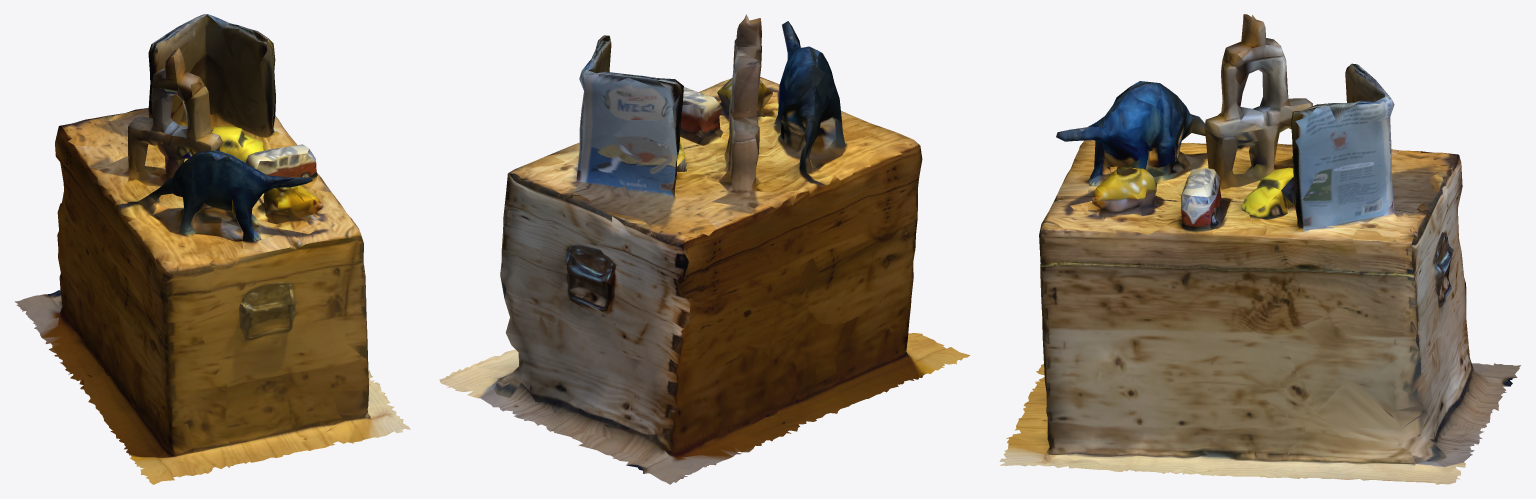
The model's file is torben3.glb.
The picture shows the model from 3 angles, left to right: view 1: azimuth 30°, elevation 25°; view 2: azimuth 150°, elevation 25°; view 3: azimuth 270°, elevation 25°; orthographic projection. The views are drawn at different scales.
Parts seen in each view (by area): view 1: model.001; view 2: model.001; view 3: model.001.
Part boxes in pixels (bbox=[...]): model.001: bbox=[14, 14, 410, 484]; model.001: bbox=[439, 14, 970, 484]; model.001: bbox=[999, 14, 1520, 484].
Bounding box in the file's own units: 3.03 × 3.26 × 3.88.
Materials: 2 (2 with a texture image).
